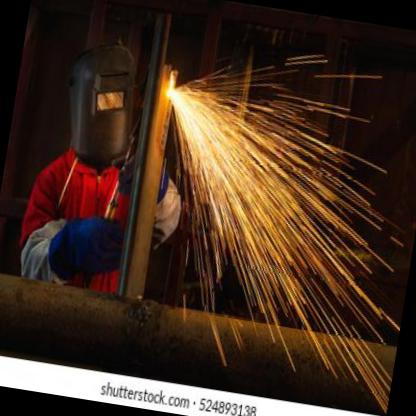Gloves: (44, 209, 128, 287)
